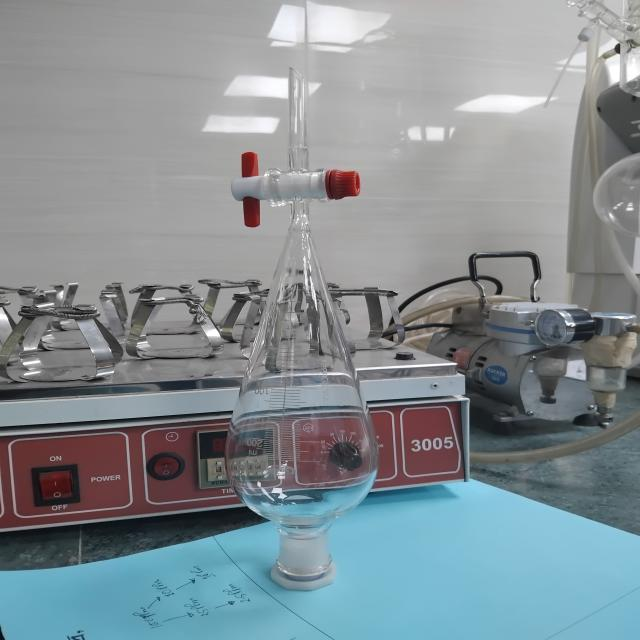Separating_Funnel: (198, 37, 416, 614)
